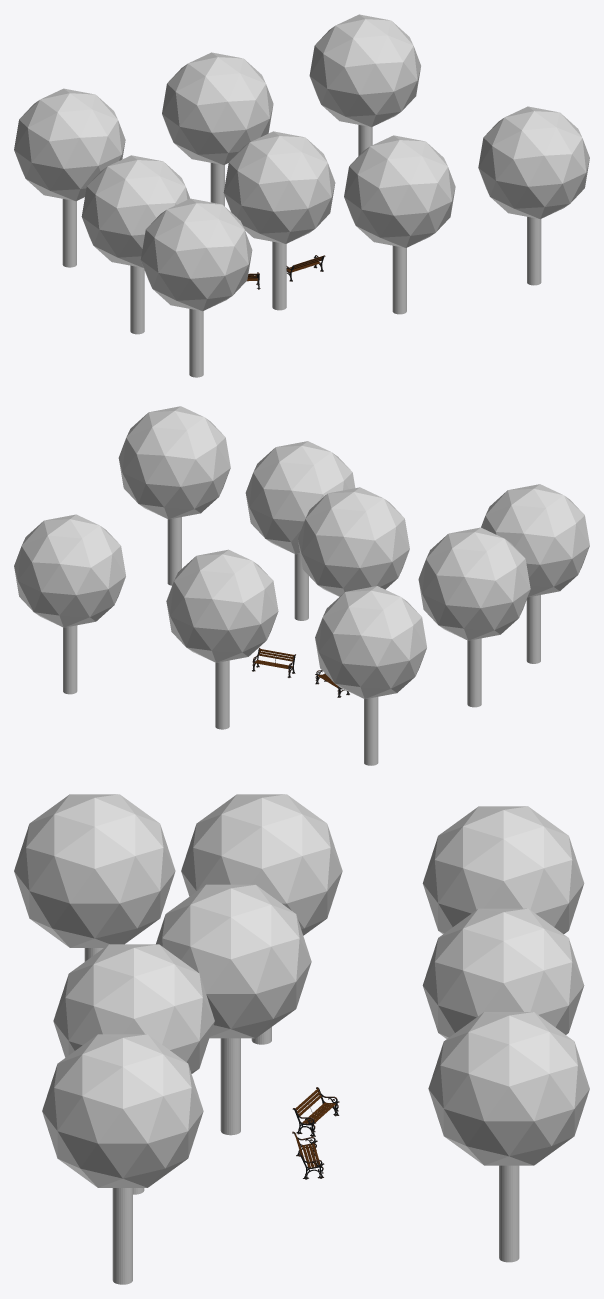
File: parkb.glb
The picture shows the model from 3 angles, top to bottom: view 1: azimuth 30°, elevation 25°; view 2: azimuth 150°, elevation 25°; view 3: azimuth 270°, elevation 25°; orthographic projection. The views are drawn at different scales.
Parts seen in each view (by area): view 1: Icosphere.004, Icosphere.006, Icosphere.008, Icosphere.005, Icosphere.001, Icosphere.007, Icosphere, Icosphere.003; view 2: Icosphere, Icosphere.007, Icosphere.001, Icosphere.003, Icosphere.008, Icosphere.005, Icosphere.004, Icosphere.006, Object_2; view 3: Icosphere.008, Icosphere.007, Icosphere.004, Icosphere.005, Icosphere, Icosphere.001, Icosphere.003, Icosphere.006, Object_2.001, Object_2.
Part boxes in pixels (x1,y1,x2,y2): Icosphere.004: [140, 198, 252, 377]; Icosphere.006: [344, 135, 455, 314]; Icosphere.008: [478, 106, 589, 285]; Icosphere.005: [223, 131, 335, 310]; Icosphere.001: [14, 88, 125, 267]; Icosphere.007: [309, 14, 420, 155]; Icosphere: [162, 52, 273, 206]; Icosphere.003: [81, 155, 189, 334]; Icosphere: [166, 549, 278, 729]; Icosphere.007: [14, 514, 125, 694]; Icosphere.001: [315, 586, 426, 765]; Icosphere.003: [418, 527, 530, 707]; Icosphere.008: [118, 406, 230, 585]; Icosphere.005: [298, 487, 409, 596]; Icosphere.004: [481, 484, 589, 663]; Icosphere.006: [245, 441, 355, 620]; Object_2: [252, 647, 295, 677]; Icosphere.008: [42, 1034, 203, 1284]; Icosphere.007: [428, 1012, 589, 1262]; Icosphere.004: [14, 794, 175, 961]; Icosphere.005: [156, 884, 311, 1135]; Icosphere: [422, 908, 584, 1038]; Icosphere.001: [422, 806, 584, 933]; Icosphere.003: [181, 794, 342, 1044]; Icosphere.006: [53, 944, 214, 1194]; Object_2.001: [292, 1087, 339, 1136]; Object_2: [292, 1131, 324, 1179].
Bounding box in the file's own units: 143 × 53 × 114.
Materials: 2 (2 with a texture image).
